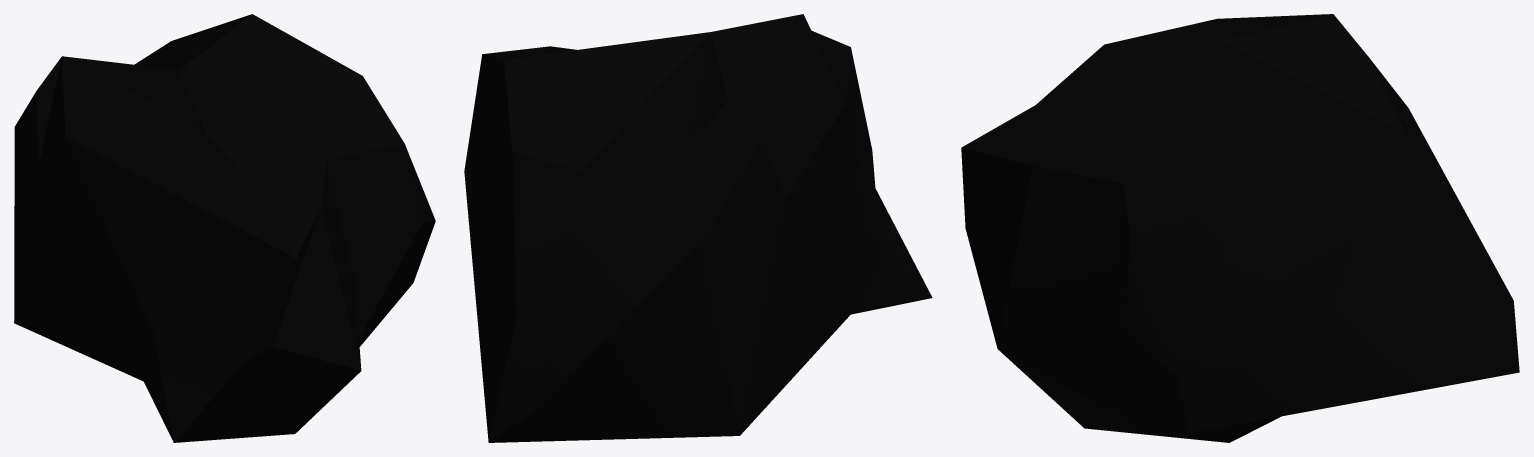
The model's file is Stone_1d.fbx.
The picture shows the model from 3 angles, left to right: view 1: azimuth 30°, elevation 25°; view 2: azimuth 150°, elevation 25°; view 3: azimuth 270°, elevation 25°; orthographic projection. The views are drawn at different scales.
Visible parts, largest first — view 1: Stone_1d; view 2: Stone_1d; view 3: Stone_1d.
Boxes of the visible parts, <box> form: Stone_1d: <box>14,14,435,442</box>; Stone_1d: <box>464,14,932,442</box>; Stone_1d: <box>961,14,1519,442</box>.
Bounding box in the file's own units: 17.53 × 16.12 × 22.06.
Materials: 1 (1 with a texture image).
